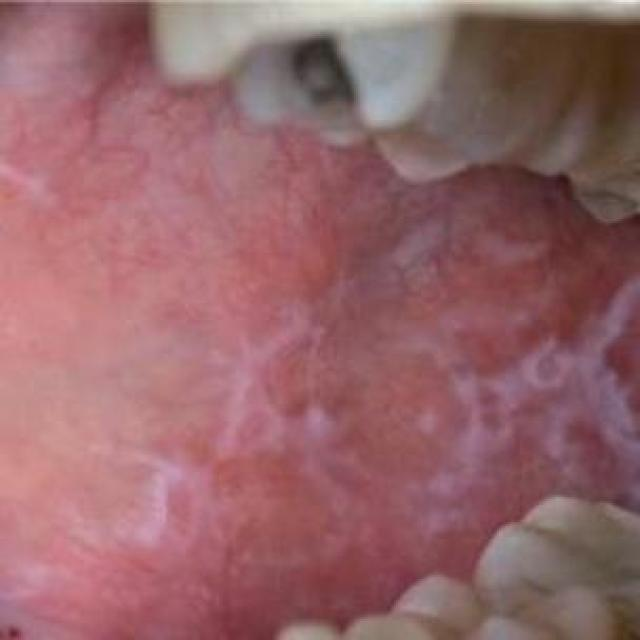leukoplakia-like-detection: (36, 187, 638, 584)
processing_area: (8, 2, 638, 633)
